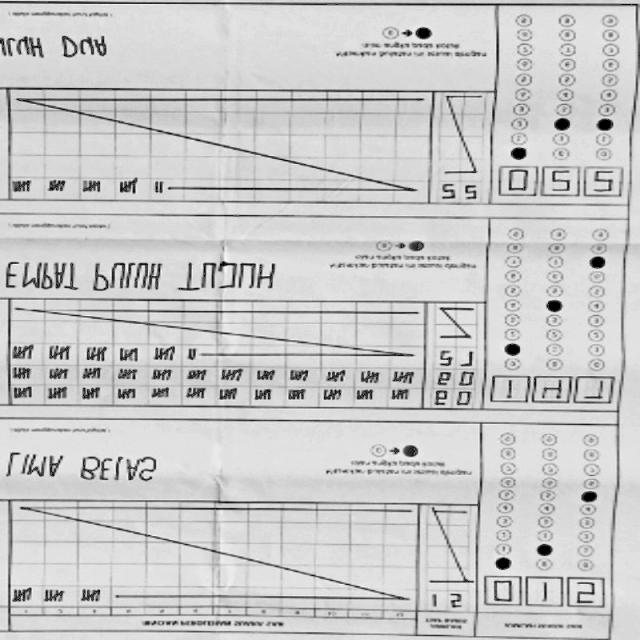Suara: (492, 162, 627, 202), (487, 372, 618, 411), (478, 574, 610, 612)
